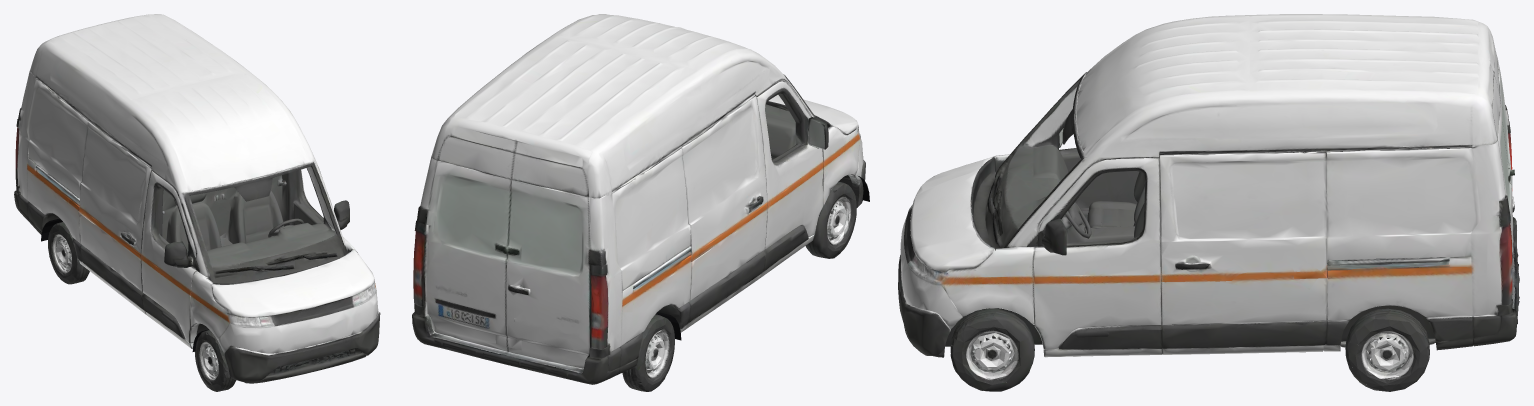
The model's file is car_van.glb.
3 renders of one model, left to right at view 1: azimuth 30°, elevation 25°; view 2: azimuth 150°, elevation 25°; view 3: azimuth 270°, elevation 25°, orthographic. The views are drawn at different scales.
Parts seen in each view (by area): view 1: body, wheel_FR, wheel_RR; view 2: body, wheel_RR, wheel_FR; view 3: body, wheel_RL, wheel_FL.
Boxes of the visible parts, bbox=[...] form: body: bbox=[14, 14, 380, 391]; wheel_FR: bbox=[198, 333, 236, 391]; wheel_RR: bbox=[48, 222, 77, 283]; body: bbox=[412, 14, 865, 384]; wheel_RR: bbox=[622, 314, 674, 391]; wheel_FR: bbox=[827, 177, 860, 253]; body: bbox=[898, 14, 1519, 391]; wheel_RL: bbox=[1348, 308, 1429, 391]; wheel_FL: bbox=[939, 308, 1020, 390].
Size of the model in its own units: 2.45 by 2.78 by 5.3.
Materials: 2 (1 with a texture image).
